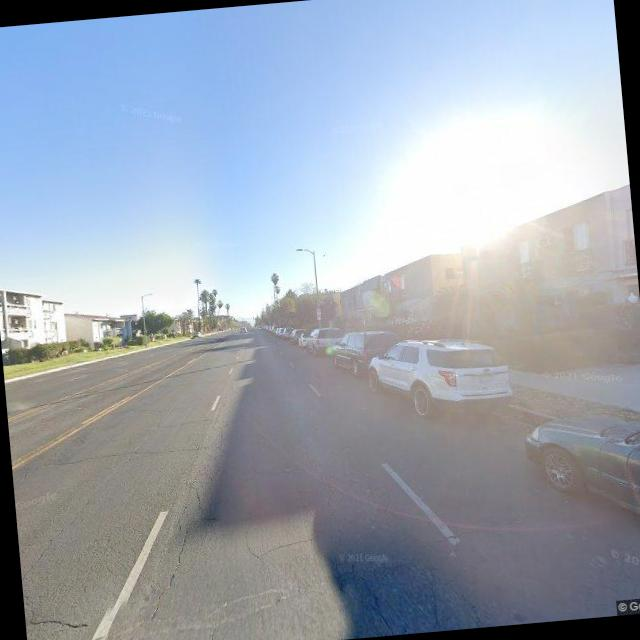pothole: (122, 404, 242, 631), (312, 463, 392, 634)
